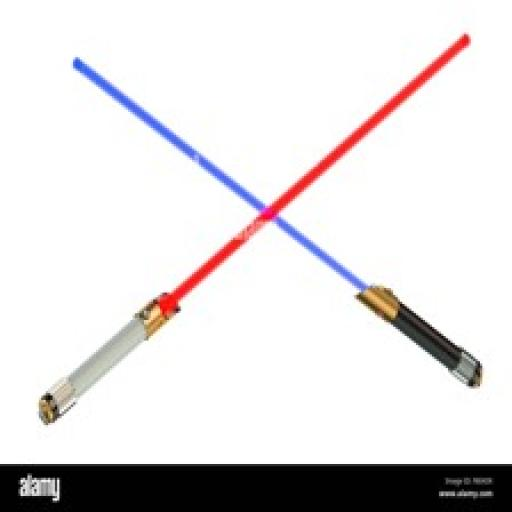lightsaber: (34, 30, 476, 426), (67, 52, 485, 388)
